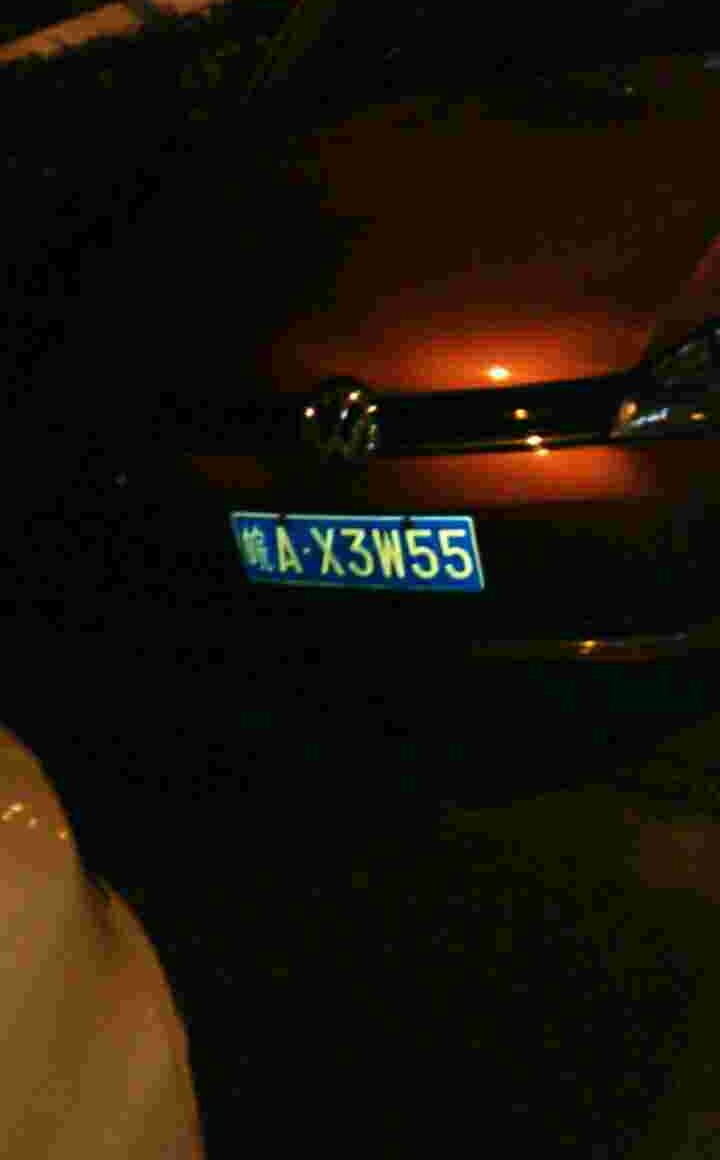license_plate: (236, 509, 480, 595)
